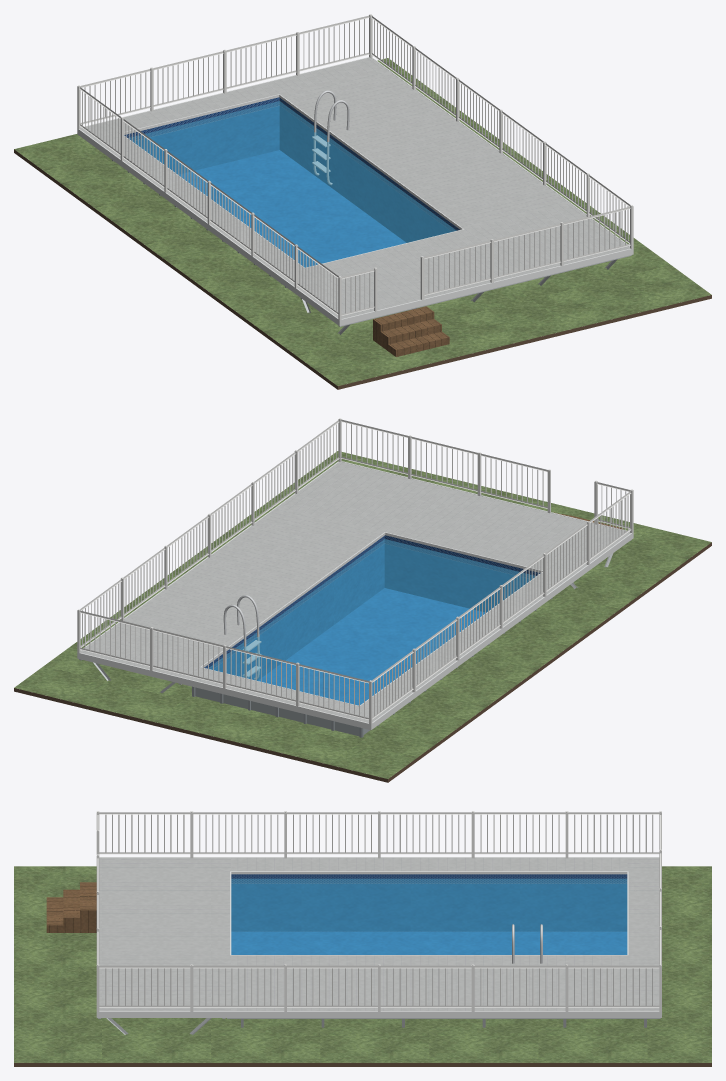
Rendered from kayak-pool-12x24-gray-endside-rec-fence.18d2d0cde3.glb.
3 renders of one model, top to bottom at view 1: azimuth 30°, elevation 25°; view 2: azimuth 150°, elevation 25°; view 3: azimuth 270°, elevation 25°, orthographic. The views are drawn at different scales.
Parts seen in each view (by area): view 1: deck, ground, water, fence, liner_wall, liner_floor, fascia, soil, steps, steel, stud; view 2: deck, ground, water, fence, liner_wall, liner_floor, fascia, soil, wall, steel; view 3: deck, ground, water, liner_wall, fence, liner_floor, fascia, soil, steps, stud.
Boxes of the visible parts, x1,y1,x2,y2 form: deck: (80, 57, 629, 318); ground: (14, 58, 711, 385); water: (128, 101, 456, 267); fence: (77, 14, 633, 319); liner_wall: (124, 97, 459, 242); liner_floor: (179, 150, 405, 267); fascia: (77, 57, 633, 326); soil: (14, 149, 711, 389); steps: (373, 306, 449, 356); steel: (312, 90, 349, 184); stud: (281, 255, 631, 334); deck: (80, 462, 630, 722); ground: (14, 451, 711, 778); water: (209, 539, 534, 705); fence: (77, 418, 633, 723); liner_wall: (204, 535, 540, 680); liner_floor: (258, 588, 484, 705); fascia: (77, 461, 633, 729); soil: (14, 542, 711, 782); wall: (195, 687, 369, 736); steel: (223, 595, 261, 679); deck: (99, 857, 659, 1010); ground: (14, 866, 711, 1062); water: (231, 878, 627, 954); liner_wall: (231, 874, 627, 931); fence: (96, 811, 661, 1011); liner_floor: (231, 931, 627, 954); fascia: (96, 857, 661, 1017); soil: (14, 1063, 711, 1066); steps: (46, 882, 96, 932); stud: (98, 1018, 660, 1034).
Bounding box in the file's own units: 8.53 × 2.15 × 12.79.
Materials: 13 (5 with a texture image).
